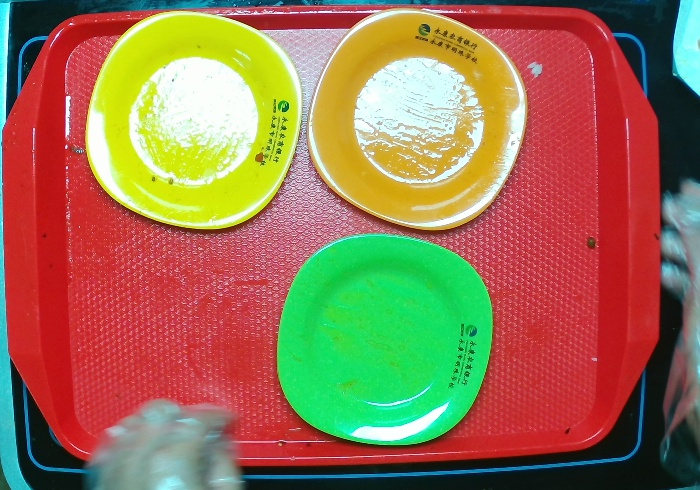YKMZ-Huang_Se_Fang_Die: (79, 9, 303, 235)
YKMZ-Ju_Se_Fang_Die: (304, 8, 530, 235)
YKMZ-Lv_Se_Fang_Die: (276, 233, 496, 447)
